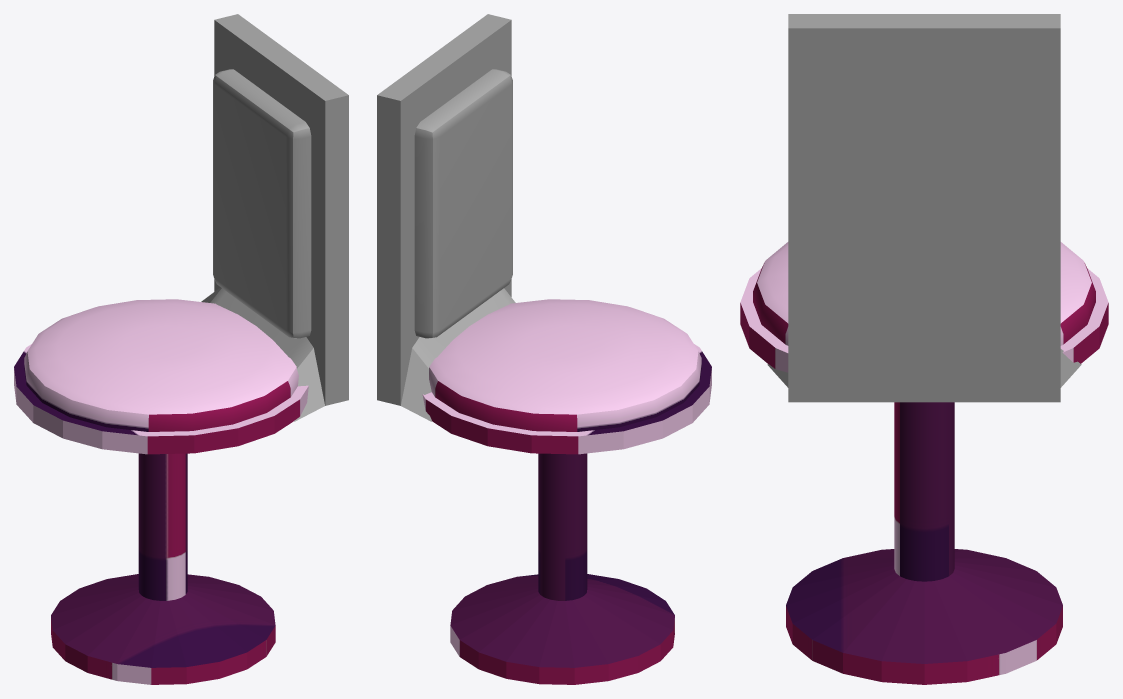
The model's file is kitchenstool.fbx.
The picture shows the model from 3 angles, left to right: view 1: azimuth 30°, elevation 25°; view 2: azimuth 150°, elevation 25°; view 3: azimuth 270°, elevation 25°; orthographic projection. The views are drawn at different scales.
Visible parts, largest first — view 1: pasted__chairpole, pCube1; view 2: pasted__chairpole, pCube1; view 3: pCube1, pasted__chairpole.
Boxes of the visible parts, box(x1,y1,x2,y2) form: pasted__chairpole: box(14, 299, 308, 684); pCube1: box(201, 14, 348, 421); pasted__chairpole: box(422, 299, 711, 684); pCube1: box(377, 14, 515, 421); pCube1: box(767, 14, 1081, 402); pasted__chairpole: box(740, 242, 1108, 684).
Size of the model in its own units: 2.16 by 4.38 by 2.16.
2 materials, 1 textured.
